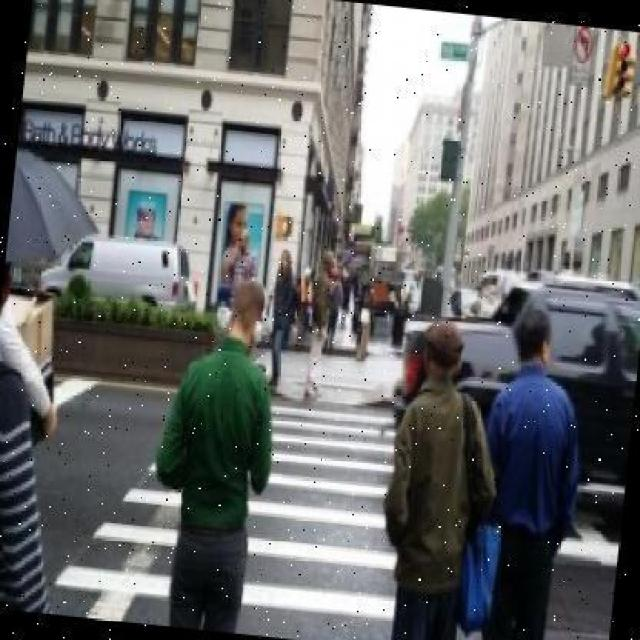Person: (140, 268, 289, 634), (369, 317, 514, 638), (465, 302, 597, 638), (300, 248, 342, 403), (262, 246, 298, 389)
